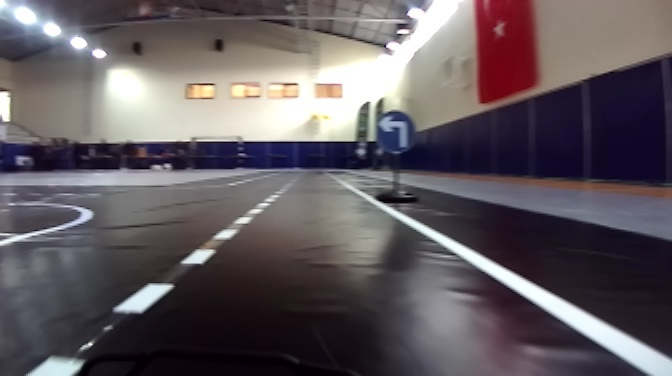sola_donus: (375, 112, 416, 151)
